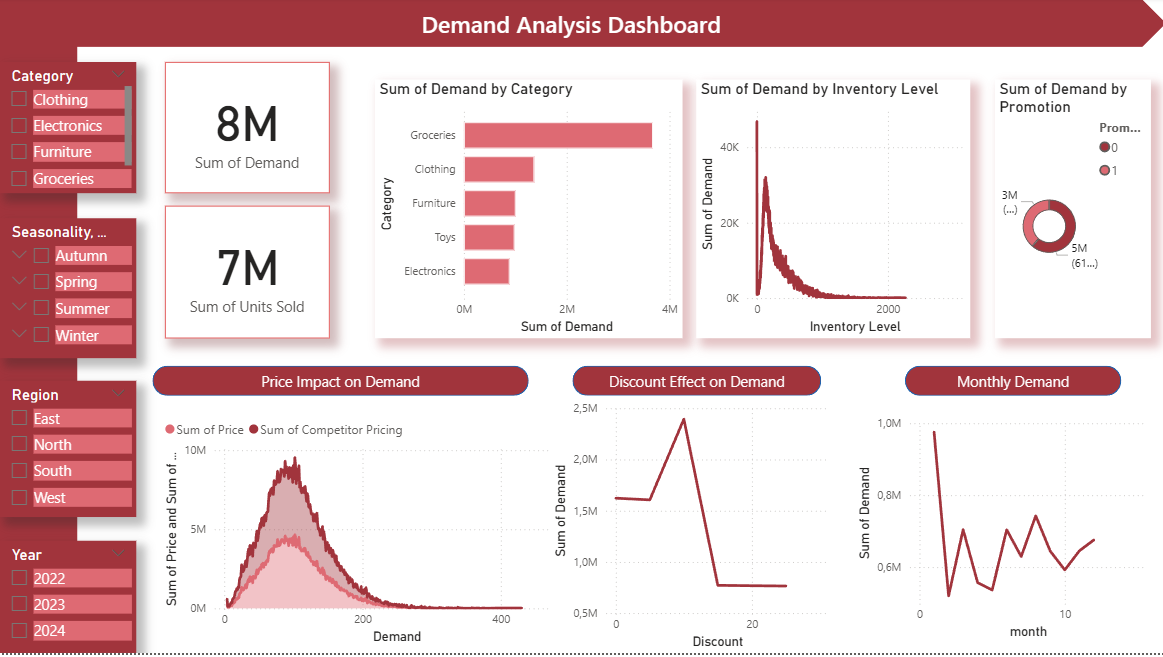

This screenshot's page, from the dashboard's own definition file:
{"tool":"powerbi","page":{"name":"Page 4","canvas":[1280,720],"ordinal":0},"visuals":[{"type":"shape","box":[0,2.7,1280.3,52.1],"z":0},{"type":"shape","box":[0,43.9,75.5,676.5],"z":1000},{"type":"slicer","title":"gdf","fields":{"Values":["cleaned_data.Region"]},"box":[0,421.3,149.6,149.6],"z":2000},{"type":"slicer","fields":{"Values":["cleaned_data.Category"]},"box":[0,71.4,149.6,144.1],"z":3000},{"type":"slicer","fields":{"Values":["cleaned_data.Seasonality","cleaned_data.Weather Condition"]},"box":[0,242.9,149.6,153.7],"z":4000},{"type":"card","fields":{"Values":["Sum(cleaned_data.Demand)"]},"box":[181.1,71.4,181.1,144.1],"z":5000},{"type":"shape","box":[628.5,404.8,273.1,32.9],"z":6000},{"type":"donutChart","fields":{"Category":["cleaned_data.Promotion"],"Y":["Sum(cleaned_data.Demand)"]},"box":[1092.3,90.6,171.5,284],"z":7000},{"type":"barChart","fields":{"Y":["Sum(cleaned_data.Demand)"],"Category":["cleaned_data.Category"]},"box":[411.7,90.6,337.6,284],"z":8000},{"type":"slicer","fields":{"Values":["cleaned_data.year"]},"box":[0,596.9,149.6,123.5],"z":9000},{"type":"lineChart","fields":{"Y":["Sum(cleaned_data.Demand)"],"Category":["cleaned_data.month"]},"box":[935.9,454.2,328,255.2],"z":10000},{"type":"shape","box":[993.5,404.8,237.4,32.9],"z":11000},{"type":"shape","box":[167.4,404.8,413,32.9],"z":13000},{"type":"stackedAreaChart","fields":{"Category":["cleaned_data.Demand"],"Y":["Sum(cleaned_data.Price)","Sum(cleaned_data.Competitor Pricing)"]},"box":[175.6,454.2,465.2,260.7],"z":14000},{"type":"card","fields":{"Values":["Sum(cleaned_data.Units Sold)"]},"box":[181.1,229.2,181.1,145.5],"z":15000},{"type":"lineChart","fields":{"Y":["Sum(cleaned_data.Demand)"],"Category":["cleaned_data.Inventory Level"]},"box":[764.3,90.6,300.5,284],"z":16000},{"type":"lineChart","fields":{"Y":["Sum(cleaned_data.Demand)"],"Category":["cleaned_data.Discount"]},"box":[602.4,437.7,312.9,282.7],"z":16001}]}

Visuals, with their boxes in screenshot pixels (x1, y1, x2, y2), scaled from the page's 1280x720 canvas onto the 1163x657 screenshot:
shape: rect(0, 2, 1162, 50)
shape: rect(0, 40, 69, 656)
"gdf" slicer: rect(0, 384, 136, 521)
slicer - cleaned_data.Category: rect(0, 65, 136, 197)
slicer - cleaned_data.Seasonality x cleaned_data.Weather Condition: rect(0, 222, 136, 362)
card - Sum(cleaned_data.Demand): rect(165, 65, 329, 197)
shape: rect(571, 369, 819, 399)
donutChart - cleaned_data.Promotion x Sum(cleaned_data.Demand): rect(992, 83, 1148, 342)
barChart - Sum(cleaned_data.Demand) x cleaned_data.Category: rect(374, 83, 681, 342)
slicer - cleaned_data.year: rect(0, 545, 136, 656)
lineChart - Sum(cleaned_data.Demand) x cleaned_data.month: rect(850, 414, 1148, 647)
shape: rect(903, 369, 1118, 399)
shape: rect(152, 369, 527, 399)
stackedAreaChart - cleaned_data.Demand x Sum(cleaned_data.Price): rect(160, 414, 582, 652)
card - Sum(cleaned_data.Units Sold): rect(165, 209, 329, 342)
lineChart - Sum(cleaned_data.Demand) x cleaned_data.Inventory Level: rect(694, 83, 967, 342)
lineChart - Sum(cleaned_data.Demand) x cleaned_data.Discount: rect(547, 399, 832, 656)
